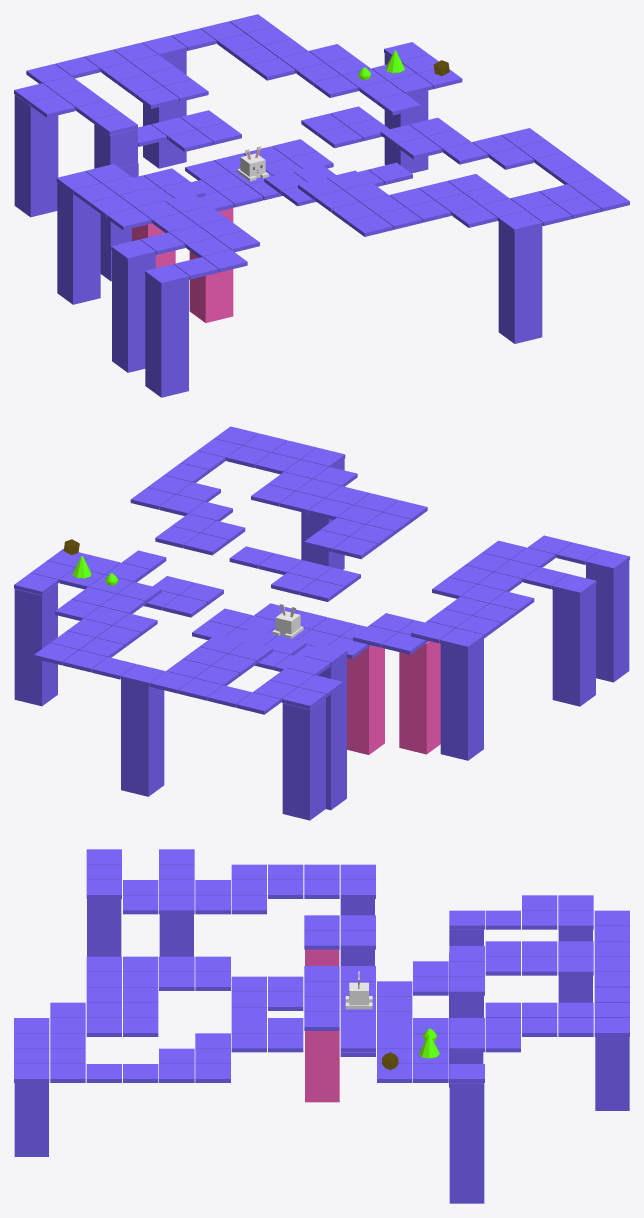
The model's file is SCEEN1.fbx.
3 views of the same model, one above another, from view 1: azimuth 30°, elevation 25°; view 2: azimuth 150°, elevation 25°; view 3: azimuth 270°, elevation 25° (orthographic). The views are drawn at different scales.
Visible parts, largest first — view 1: pillar_6, pillar_1, pillar_11, pillar_4, pillar, pillar_5, pillar_10, pillar_3, pillar_9, pillar_12, pillar_2, PURPLE_1_0_1_2 (+58 smaller); view 2: pillar_11, pillar_4, pillar, pillar_10, pillar_9, pillar_2, pillar_1, pillar_5, pillar_3, pillar_6, pillar_12, PURPLE_6 (+60 smaller); view 3: pillar_9, pillar_6, pillar_10, pillar_5, pillar_1, pillar, pillar_11, pillar_12, pillar_4, PURPLE_3, PURPLE_5, PURPLE_1_3_3 (+109 smaller).
Boxes of the visible parts, bbox=[...] form: pillar_6: bbox=[498, 222, 542, 343]; pillar_1: bbox=[145, 275, 188, 397]; pillar_11: bbox=[14, 94, 58, 217]; pillar_4: bbox=[57, 182, 100, 304]; pillar: bbox=[112, 251, 155, 372]; pillar_5: bbox=[189, 208, 233, 322]; pillar_10: bbox=[143, 51, 186, 168]; pillar_3: bbox=[94, 124, 137, 246]; pillar_9: bbox=[384, 53, 428, 173]; pillar_12: bbox=[100, 163, 138, 281]; pillar_2: bbox=[132, 223, 175, 267]; PURPLE_1_0_1_2: bbox=[397, 137, 442, 159]; pillar_11: bbox=[282, 698, 325, 820]; pillar_4: bbox=[440, 639, 483, 760]; pillar: bbox=[552, 585, 595, 706]; pillar_10: bbox=[121, 680, 164, 796]; pillar_9: bbox=[14, 584, 57, 706]; pillar_2: bbox=[399, 641, 440, 754]; pillar_1: bbox=[586, 561, 629, 682]; pillar_5: bbox=[347, 645, 384, 754]; pillar_3: bbox=[318, 654, 346, 776]; pillar_6: bbox=[301, 459, 344, 569]; pillar_12: bbox=[326, 765, 346, 810]; PURPLE_6: bbox=[439, 628, 484, 650]; pillar_9: bbox=[449, 1083, 484, 1203]; pillar_6: bbox=[14, 1083, 48, 1156]; pillar_10: bbox=[595, 1037, 629, 1110]; pillar_5: bbox=[305, 1031, 339, 1102]; pillar_1: bbox=[87, 899, 121, 956]; pillar: bbox=[159, 914, 193, 956]; pillar_11: bbox=[558, 929, 592, 1002]; pillar_12: bbox=[449, 953, 483, 1087]; pillar_4: bbox=[340, 899, 374, 965]; PURPLE_3: bbox=[159, 895, 194, 914]; PURPLE_5: bbox=[195, 895, 230, 914]; PURPLE_1_3_3: bbox=[449, 1033, 484, 1052].
Bounding box in the file's own units: 1228 × 459 × 1392.
